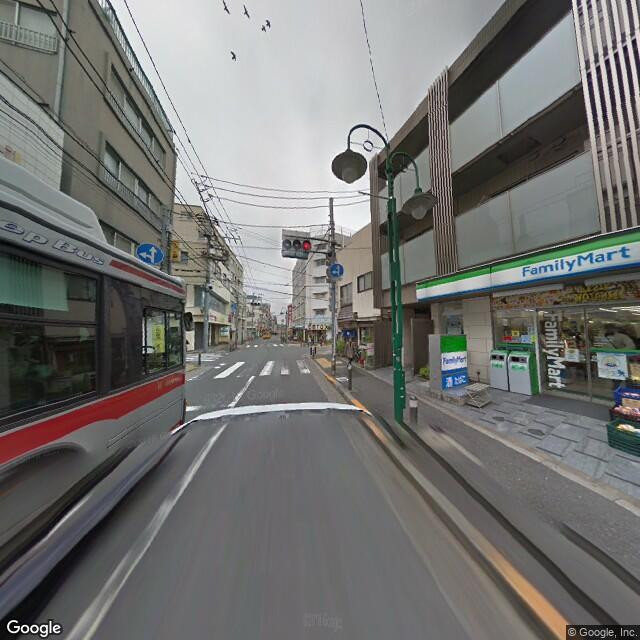family_mart: (415, 225, 639, 304), (433, 332, 468, 381)
